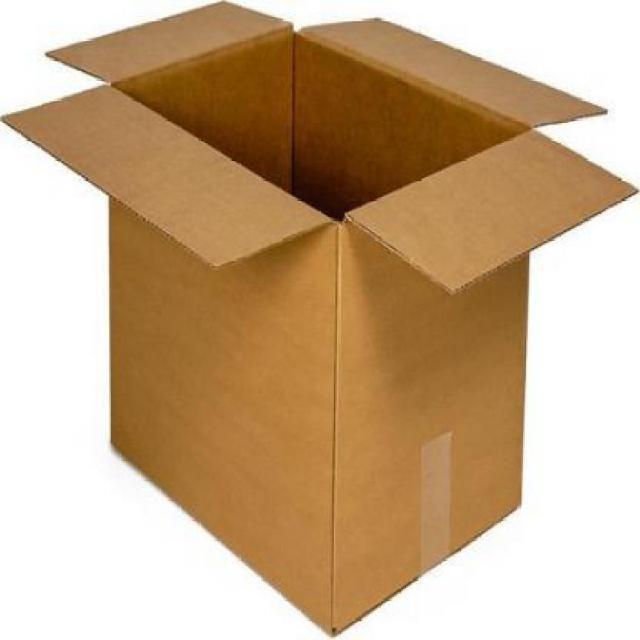box: (1, 0, 637, 637)
